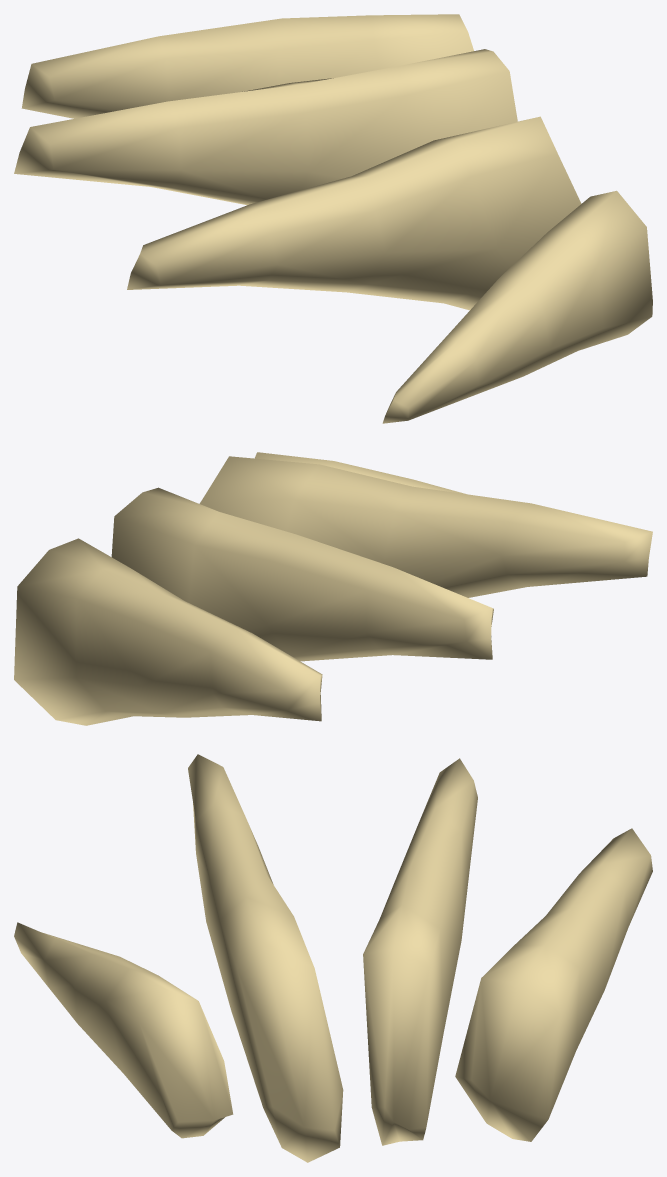
Rendered from wepon.fbx.
The picture shows the model from 3 angles, top to bottom: view 1: azimuth 30°, elevation 25°; view 2: azimuth 150°, elevation 25°; view 3: azimuth 270°, elevation 25°; orthographic projection. The views are drawn at different scales.
Parts seen in each view (by area): view 1: claw001; view 2: claw001; view 3: claw001.
Boxes of the visible parts, bbox=[...] form: claw001: bbox=[14, 14, 652, 423]; claw001: bbox=[14, 452, 652, 725]; claw001: bbox=[14, 754, 652, 1162].
Size of the model in its own units: 1010 by 455 by 1179.
